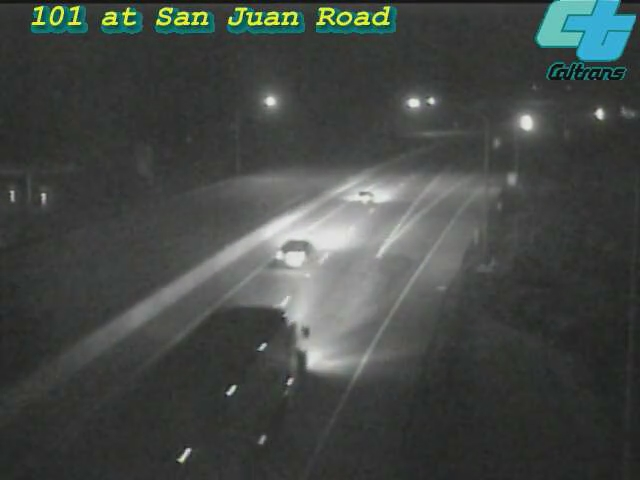vehicle: (153, 359, 263, 469), (326, 156, 406, 236), (254, 215, 334, 295), (501, 97, 551, 147), (576, 89, 626, 139), (610, 89, 640, 139)
